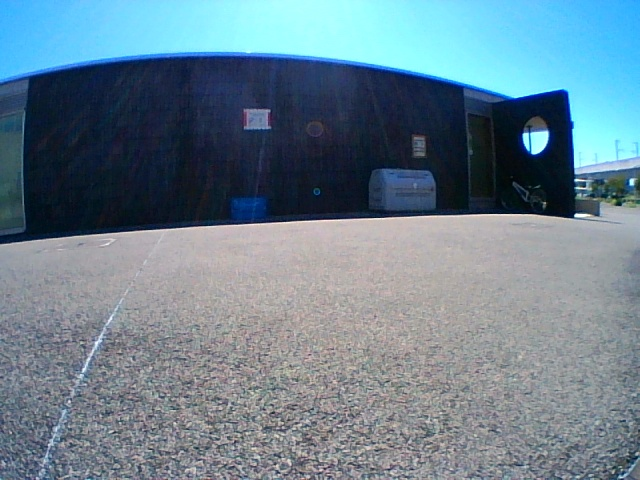blue_box: (230, 196, 265, 223)
